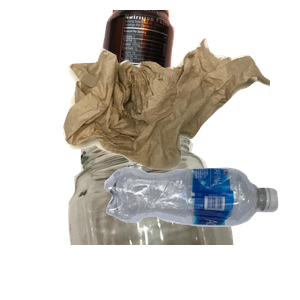glass: (61, 120, 287, 300)
metal: (91, 10, 258, 188)
plastic: (102, 165, 300, 300)
trash: (60, 36, 300, 198)
